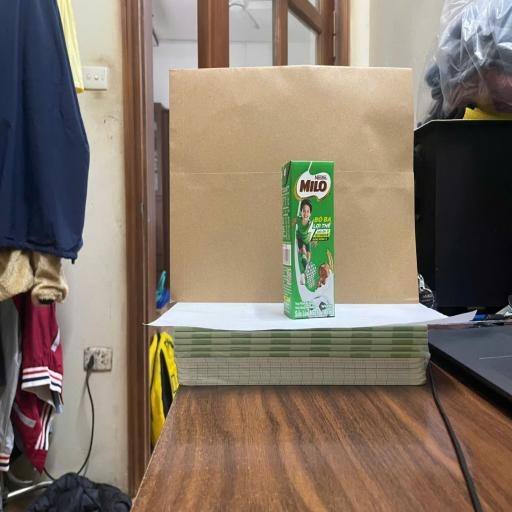milo: (282, 159, 334, 320)
